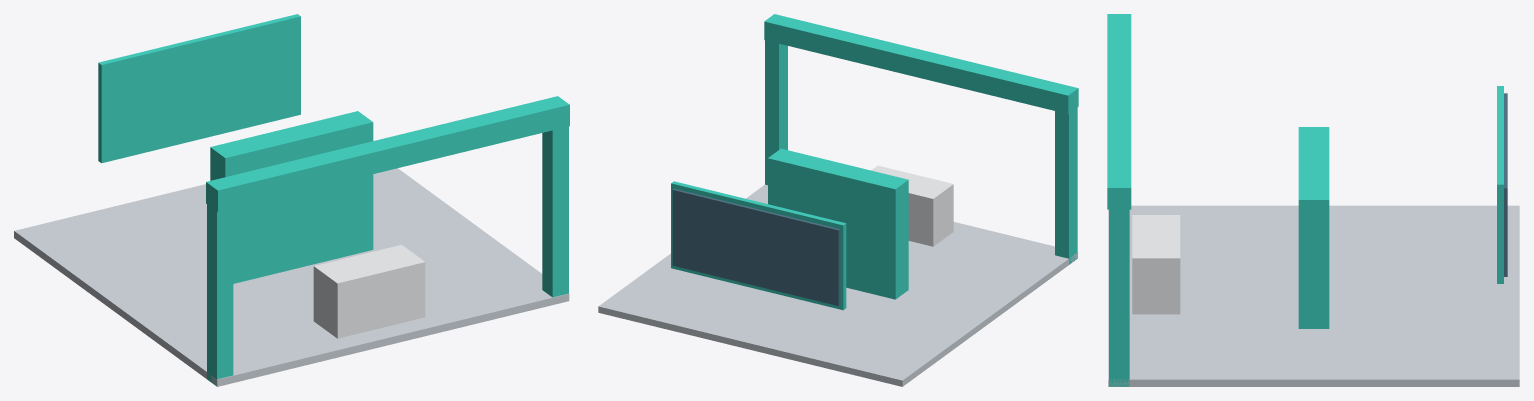
3 views of the same model, side by side, from view 1: azimuth 30°, elevation 25°; view 2: azimuth 150°, elevation 25°; view 3: azimuth 270°, elevation 25° (orthographic). The views are drawn at different scales.
Parts seen in each view (by area): view 1: Exhibition Booth Concept; view 2: Exhibition Booth Concept; view 3: Exhibition Booth Concept.
Part boxes in pixels (x1,y1,x2,y2): Exhibition Booth Concept: (14,14,569,386); Exhibition Booth Concept: (598,14,1078,386); Exhibition Booth Concept: (1107,14,1519,386).
Bounding box in the file's own units: 6 × 3.2 × 6.02.
